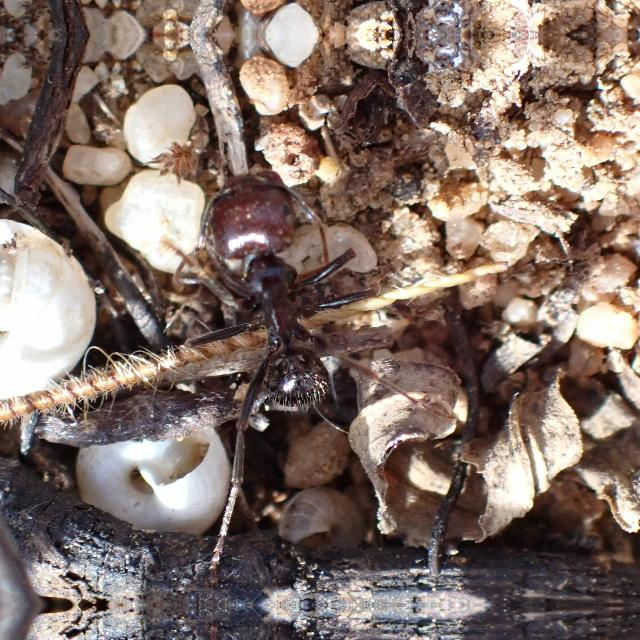Messor: (168, 192, 338, 424)
